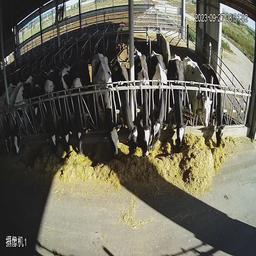cow: (92, 49, 122, 166), (112, 56, 140, 161), (146, 44, 170, 152), (203, 56, 229, 151), (8, 60, 32, 159), (71, 48, 90, 169), (134, 43, 154, 156), (167, 48, 188, 154), (185, 51, 213, 130), (41, 49, 60, 160), (20, 54, 40, 152), (57, 56, 75, 164)
